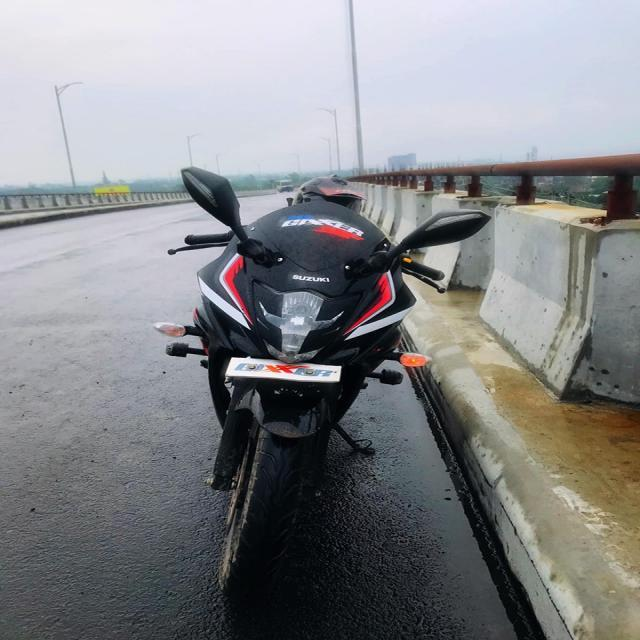Motorbike: (145, 125, 515, 623)
